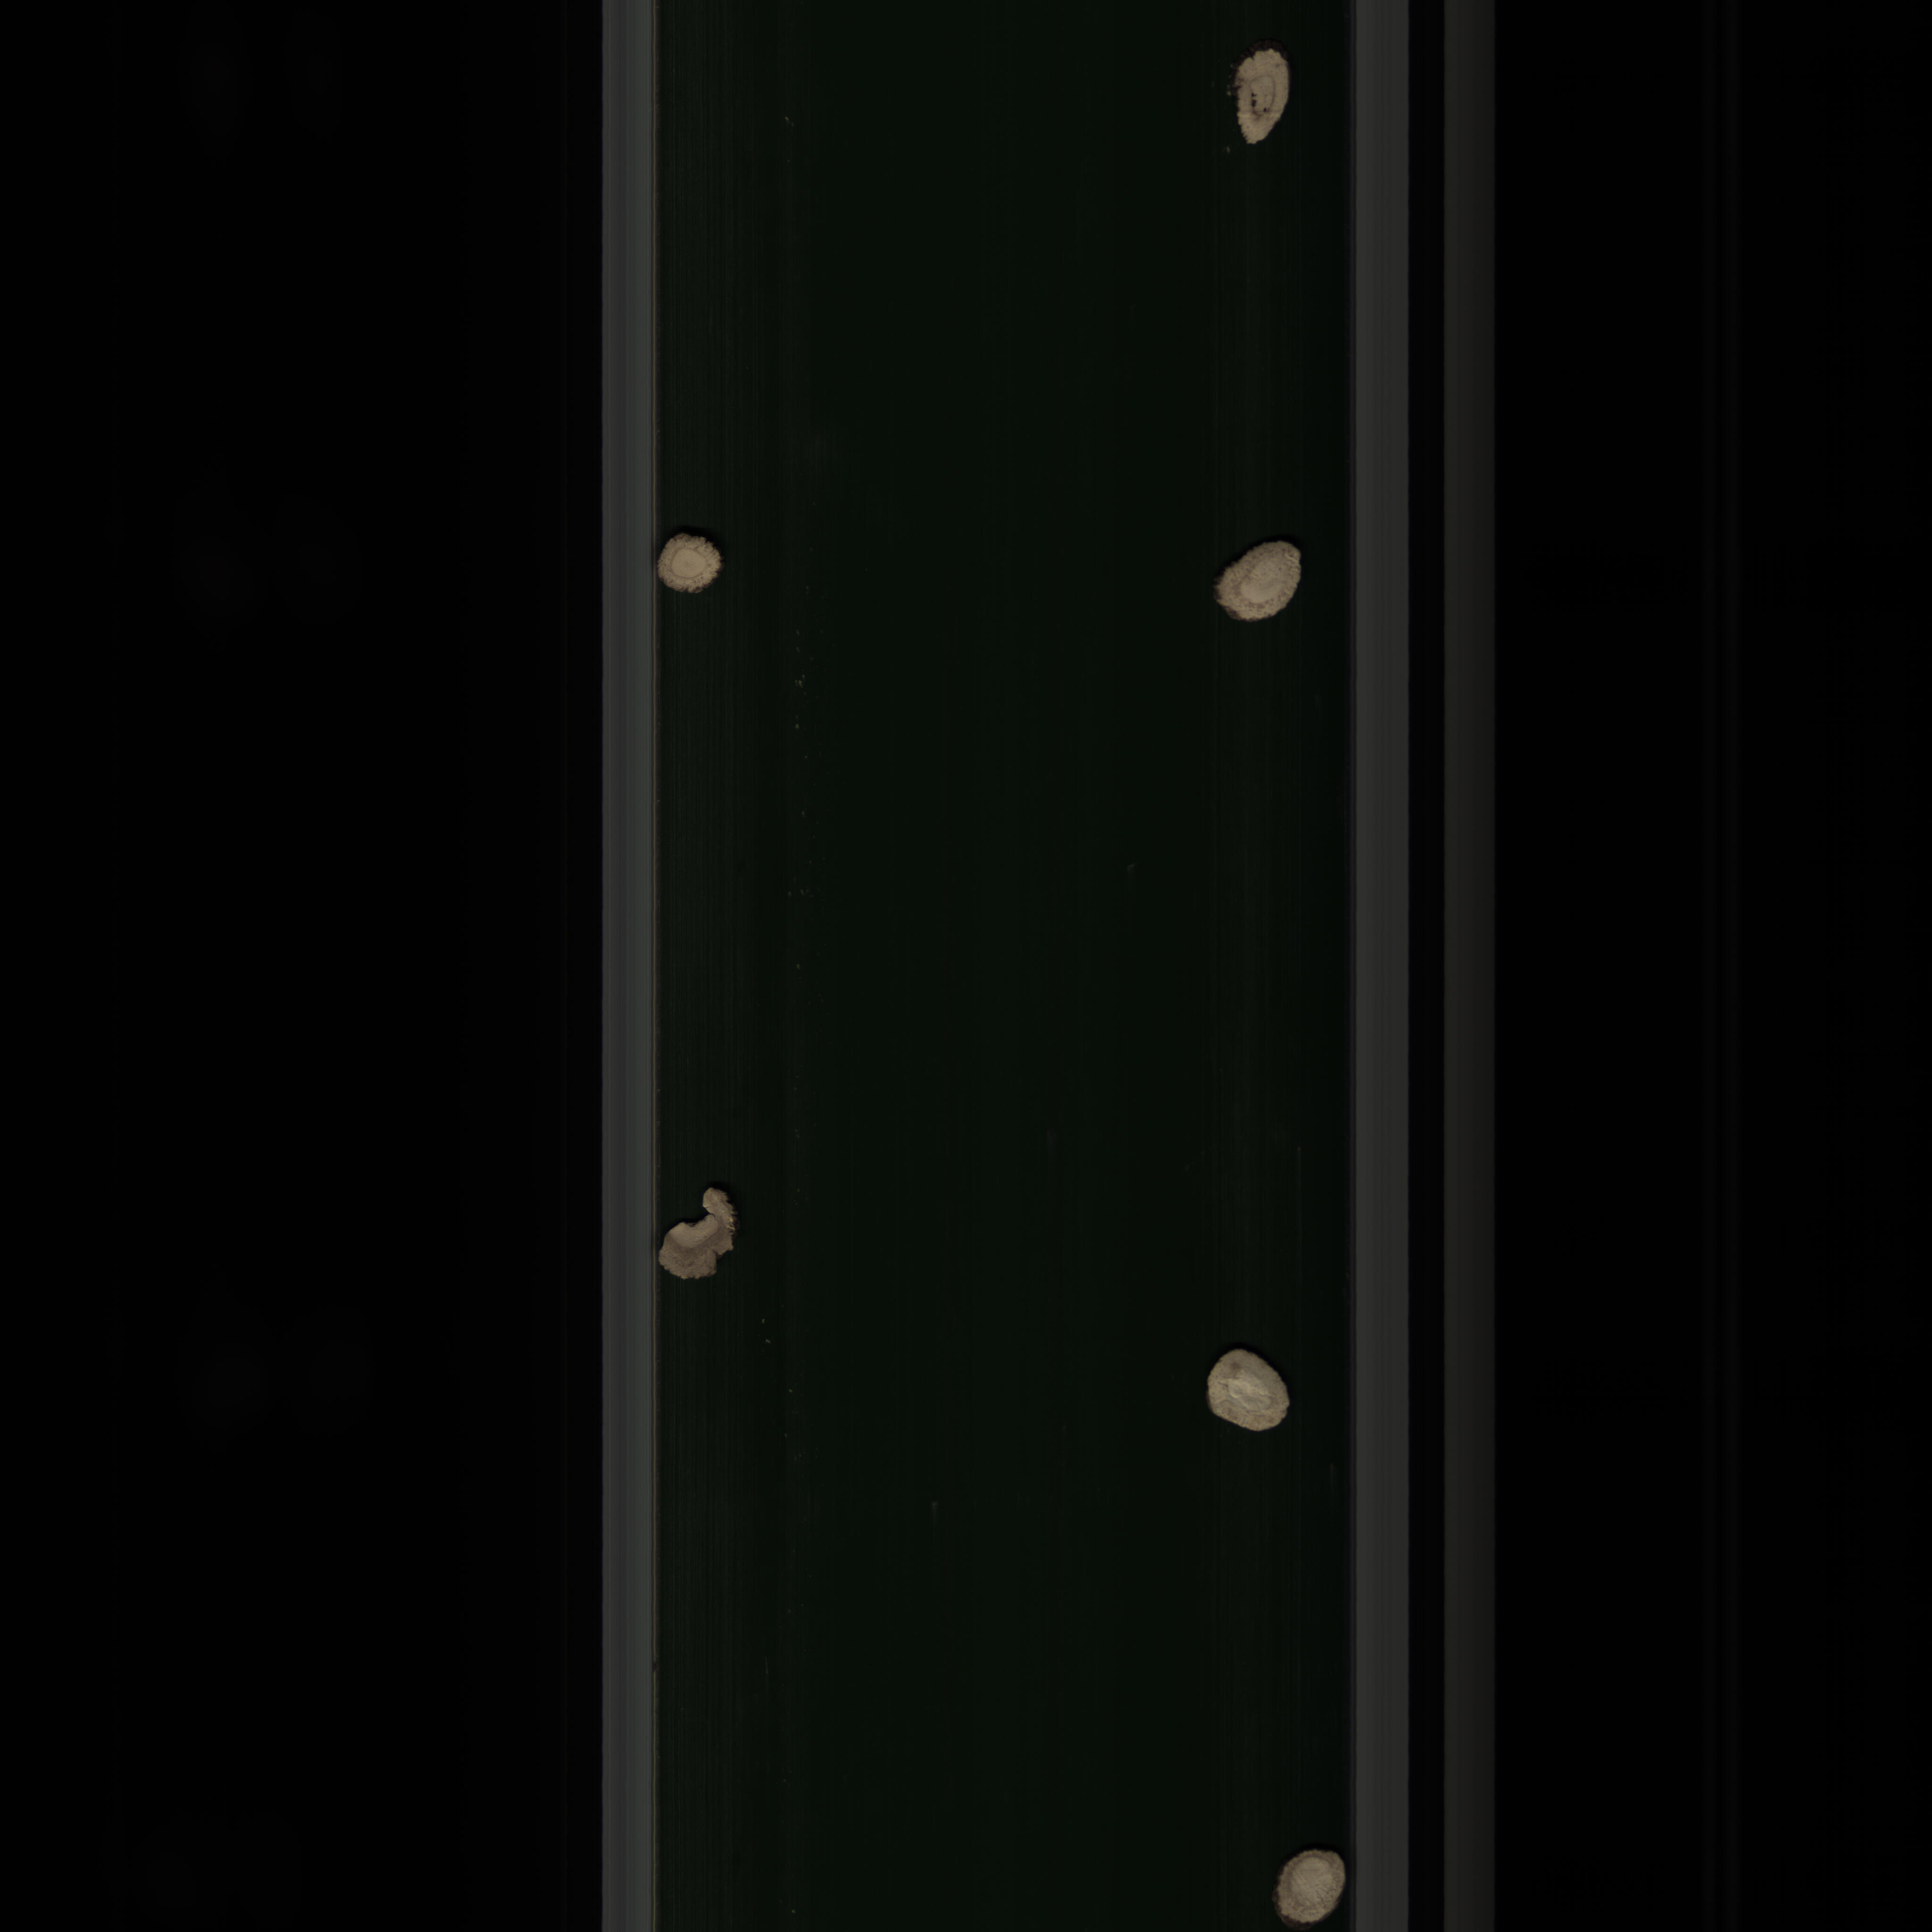debris: (655, 1182, 738, 1284), (1226, 39, 1297, 152)
